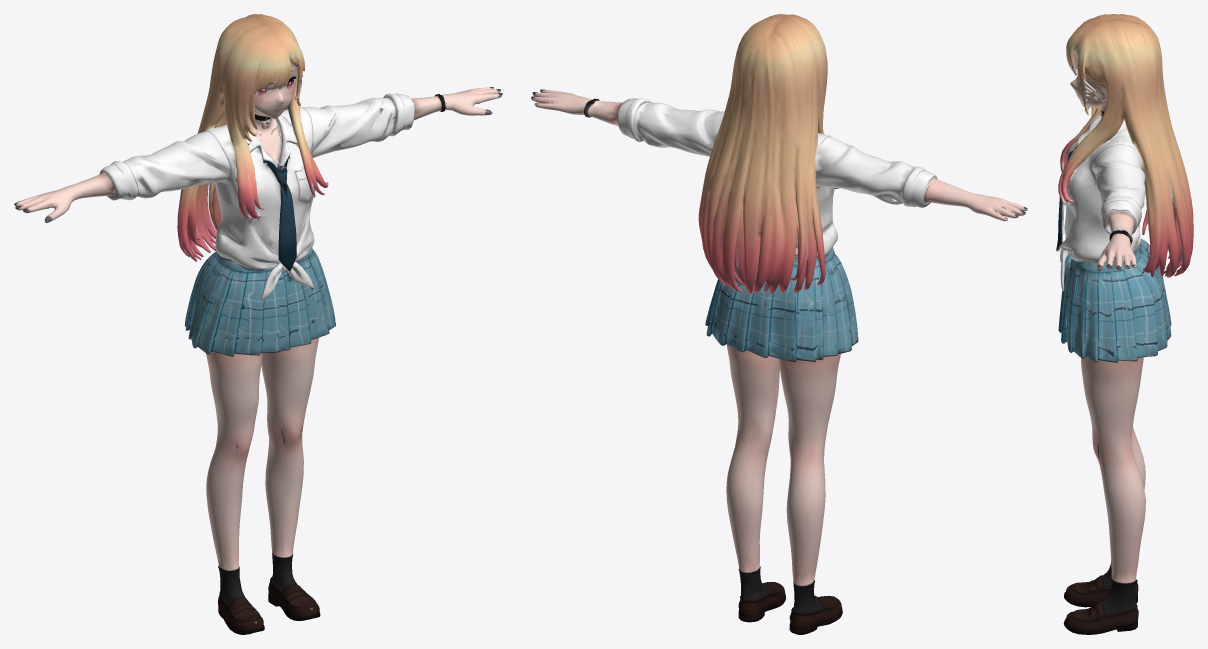
The model's file is SchoolgirlCasual.glb.
3 views of the same model, side by side, from view 1: azimuth 30°, elevation 25°; view 2: azimuth 150°, elevation 25°; view 3: azimuth 270°, elevation 25° (orthographic).
Visible parts, largest first — view 1: mesh_node; view 2: mesh_node; view 3: mesh_node.
Part boxes in pixels (x1,y1,x2,y2): mesh_node: (14,14,502,634); mesh_node: (531,14,1027,634); mesh_node: (1056,14,1193,634).
Size of the model in its own units: 1.46 by 1.7 by 0.3557.
Materials: 1 (1 with a texture image).
